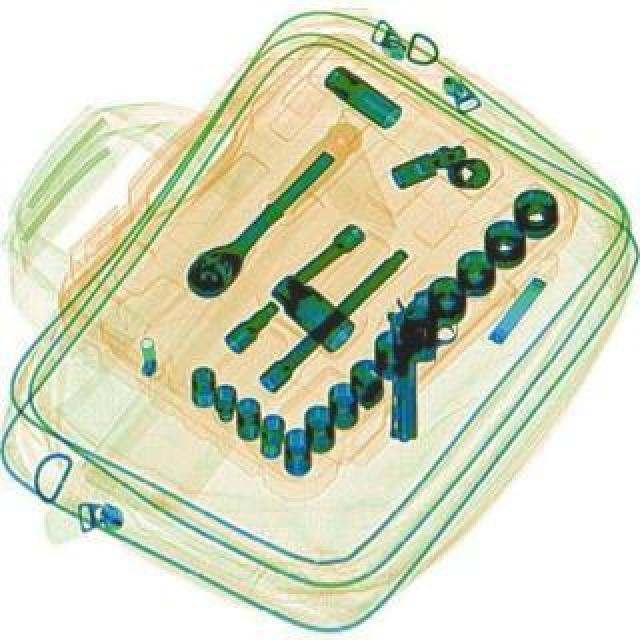gun: (386, 288, 462, 446)
